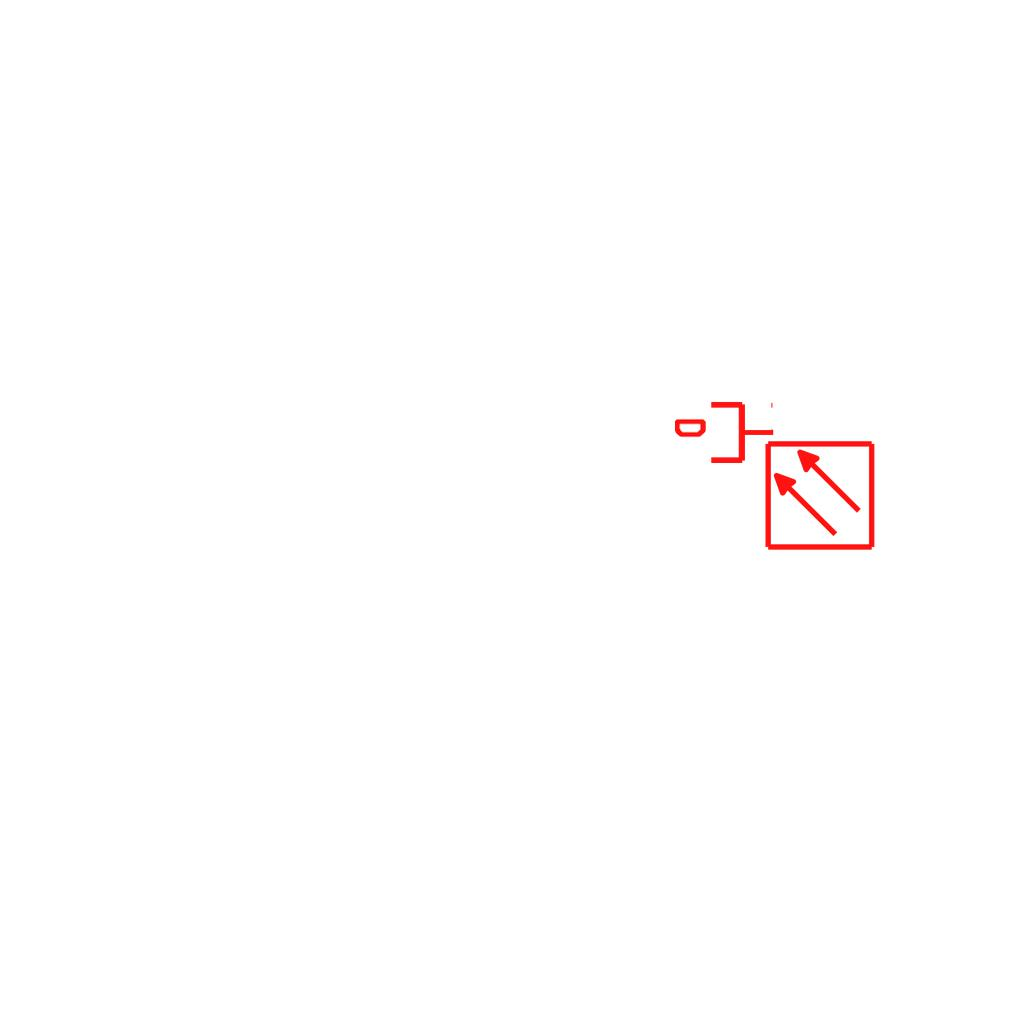Datenanschluss_einfach: (675, 398, 775, 467)
RMO_Rauchmelder_optischer: (763, 439, 876, 552)
